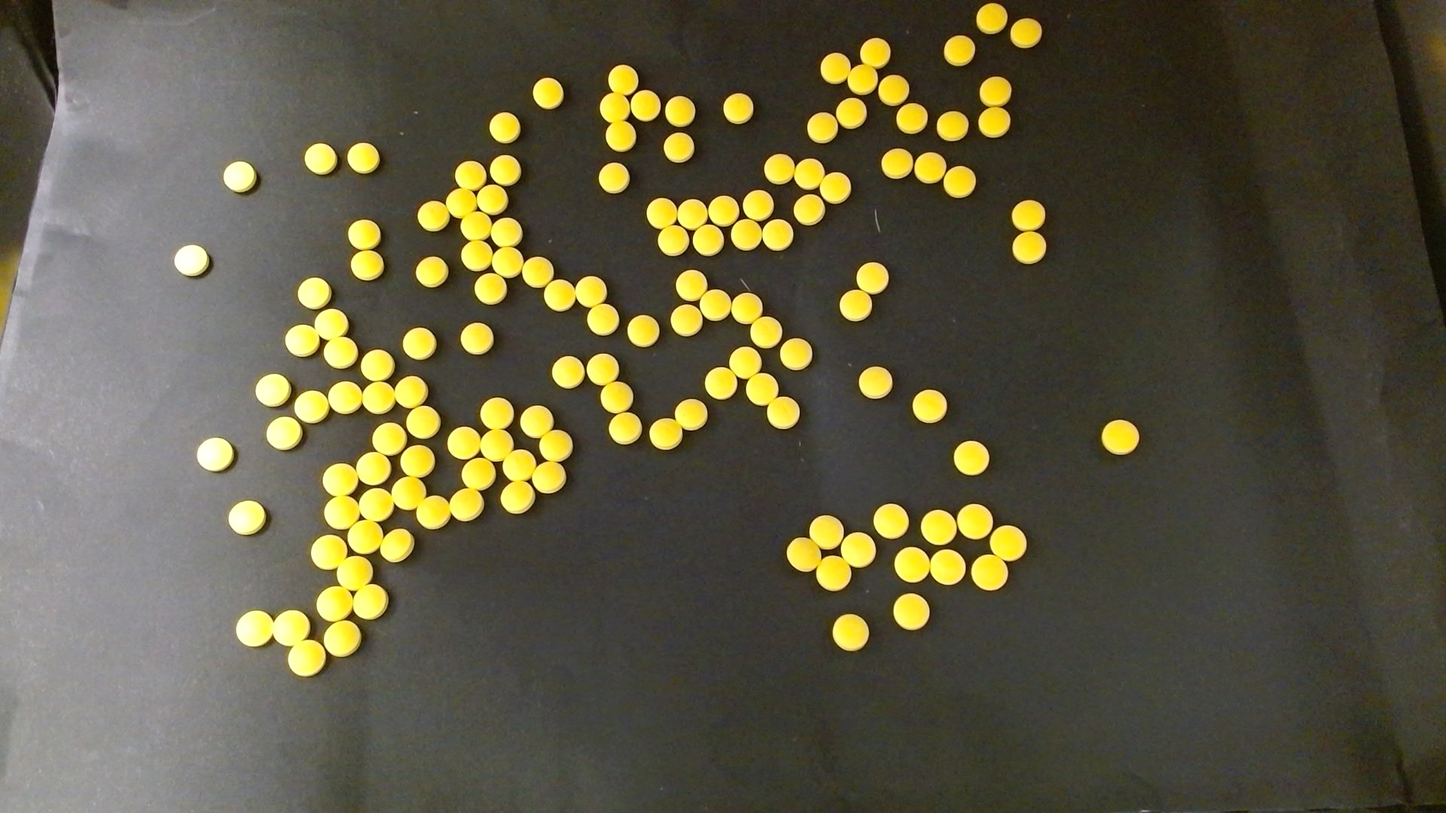Circle: (287, 639, 326, 676), (235, 610, 273, 647), (322, 620, 360, 656), (196, 437, 234, 473), (1101, 419, 1139, 455), (227, 500, 266, 535), (972, 554, 1008, 591), (273, 610, 310, 646), (893, 593, 929, 630), (832, 614, 868, 651), (957, 503, 993, 539), (352, 583, 388, 619), (816, 556, 851, 592), (310, 534, 346, 569), (990, 525, 1026, 560), (953, 440, 989, 475), (728, 346, 763, 381), (316, 586, 352, 620), (265, 416, 301, 450), (931, 550, 965, 585), (348, 519, 383, 553), (337, 556, 372, 590), (874, 503, 908, 538), (391, 475, 426, 509), (322, 462, 357, 496), (255, 373, 290, 407), (173, 244, 209, 277), (324, 495, 358, 529), (895, 547, 929, 581), (841, 533, 875, 567), (450, 488, 484, 522), (810, 515, 844, 549), (921, 510, 955, 544), (360, 349, 395, 382), (379, 529, 414, 562), (401, 327, 436, 360), (416, 495, 450, 528), (499, 480, 533, 513), (328, 381, 362, 414), (356, 452, 390, 485), (284, 324, 318, 357), (372, 422, 406, 455), (394, 375, 428, 408), (480, 397, 514, 430), (532, 461, 566, 494), (297, 276, 331, 309), (786, 537, 819, 571), (459, 322, 493, 355), (222, 160, 256, 193), (704, 367, 739, 399), (551, 355, 584, 388), (304, 142, 337, 175), (359, 489, 393, 521), (858, 366, 892, 398), (324, 337, 357, 369), (462, 457, 495, 489), (362, 381, 395, 413), (520, 405, 553, 437), (480, 429, 513, 461), (415, 256, 448, 288), (1012, 231, 1045, 263), (913, 390, 946, 422), (294, 391, 328, 422), (746, 373, 778, 405), (609, 413, 641, 445), (780, 338, 812, 370), (601, 381, 633, 413), (598, 161, 630, 193), (407, 406, 439, 438), (856, 262, 889, 293), (401, 446, 434, 477), (502, 450, 535, 481), (1012, 199, 1045, 230), (539, 430, 572, 461), (350, 250, 383, 281), (346, 142, 379, 173), (474, 273, 506, 304), (978, 105, 1010, 136), (674, 399, 706, 430), (627, 315, 658, 347), (839, 290, 871, 321), (767, 397, 798, 429), (347, 218, 380, 248), (649, 419, 682, 449), (316, 308, 349, 338), (836, 97, 867, 128), (700, 289, 731, 320), (587, 354, 618, 385), (761, 218, 792, 249), (820, 171, 851, 202), (819, 52, 850, 83), (587, 305, 618, 336), (489, 111, 520, 142), (532, 77, 563, 108), (417, 200, 449, 230), (454, 160, 486, 190), (794, 157, 824, 189), (943, 166, 975, 196), (731, 218, 761, 250), (460, 239, 491, 269), (897, 102, 927, 133), (915, 151, 945, 182), (743, 189, 773, 220), (544, 280, 575, 310), (794, 193, 824, 224), (676, 269, 706, 300), (460, 210, 491, 240), (575, 276, 606, 306), (944, 35, 975, 65), (731, 292, 761, 323), (693, 223, 723, 254), (671, 305, 701, 336), (657, 225, 688, 255), (493, 245, 523, 276), (447, 428, 478, 458), (878, 75, 908, 105), (677, 198, 707, 228), (522, 257, 552, 287), (807, 112, 837, 142), (664, 96, 694, 126), (445, 187, 475, 217), (490, 154, 520, 184), (646, 197, 676, 227), (664, 132, 694, 162), (723, 93, 753, 123), (490, 218, 521, 247), (604, 120, 633, 151), (599, 92, 630, 121), (752, 317, 781, 348), (980, 76, 1011, 105), (860, 38, 890, 67), (476, 184, 506, 213), (630, 90, 659, 120), (937, 111, 967, 140), (764, 154, 793, 184), (976, 3, 1006, 32), (881, 148, 911, 177), (1011, 18, 1041, 47), (608, 64, 637, 93), (847, 63, 875, 92), (709, 196, 737, 224)
